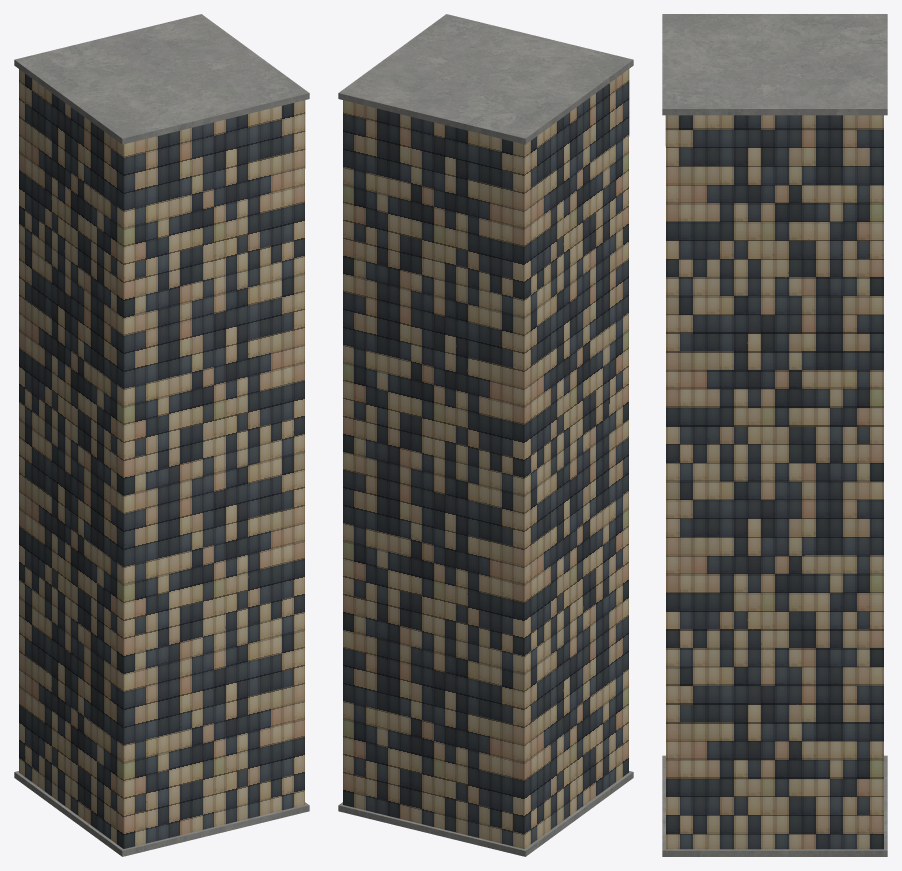
File: building_06.1.glb
3 views of the same model, side by side, from view 1: azimuth 30°, elevation 25°; view 2: azimuth 150°, elevation 25°; view 3: azimuth 270°, elevation 25° (orthographic). The views are drawn at different scales.
Parts seen in each view (by area): view 1: building_06_12; view 2: building_06_12; view 3: building_06_12.
Boxes of the visible parts, bbox=[...] form: building_06_12: bbox=[14, 14, 309, 856]; building_06_12: bbox=[338, 14, 633, 856]; building_06_12: bbox=[662, 14, 887, 856].
Size of the model in its own units: 33 by 121 by 33.
Materials: 1 (1 with a texture image).
